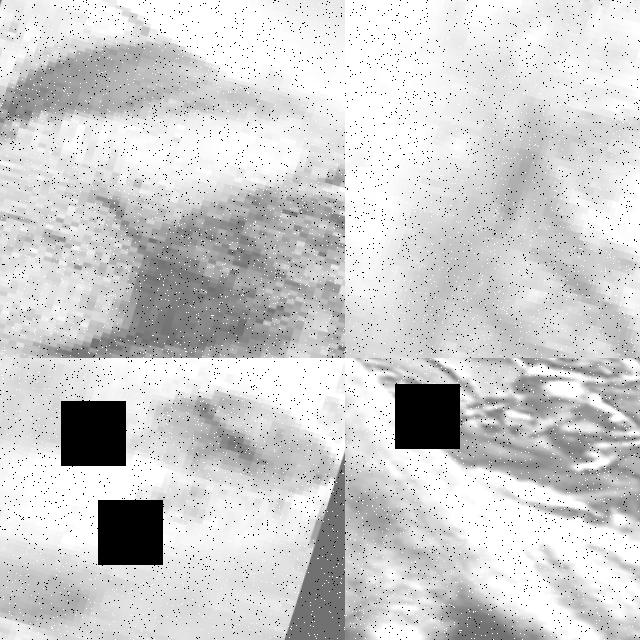dog: (0, 0, 345, 358), (345, 0, 640, 358)
wolf: (0, 358, 345, 640), (0, 358, 345, 634), (345, 358, 640, 640)
